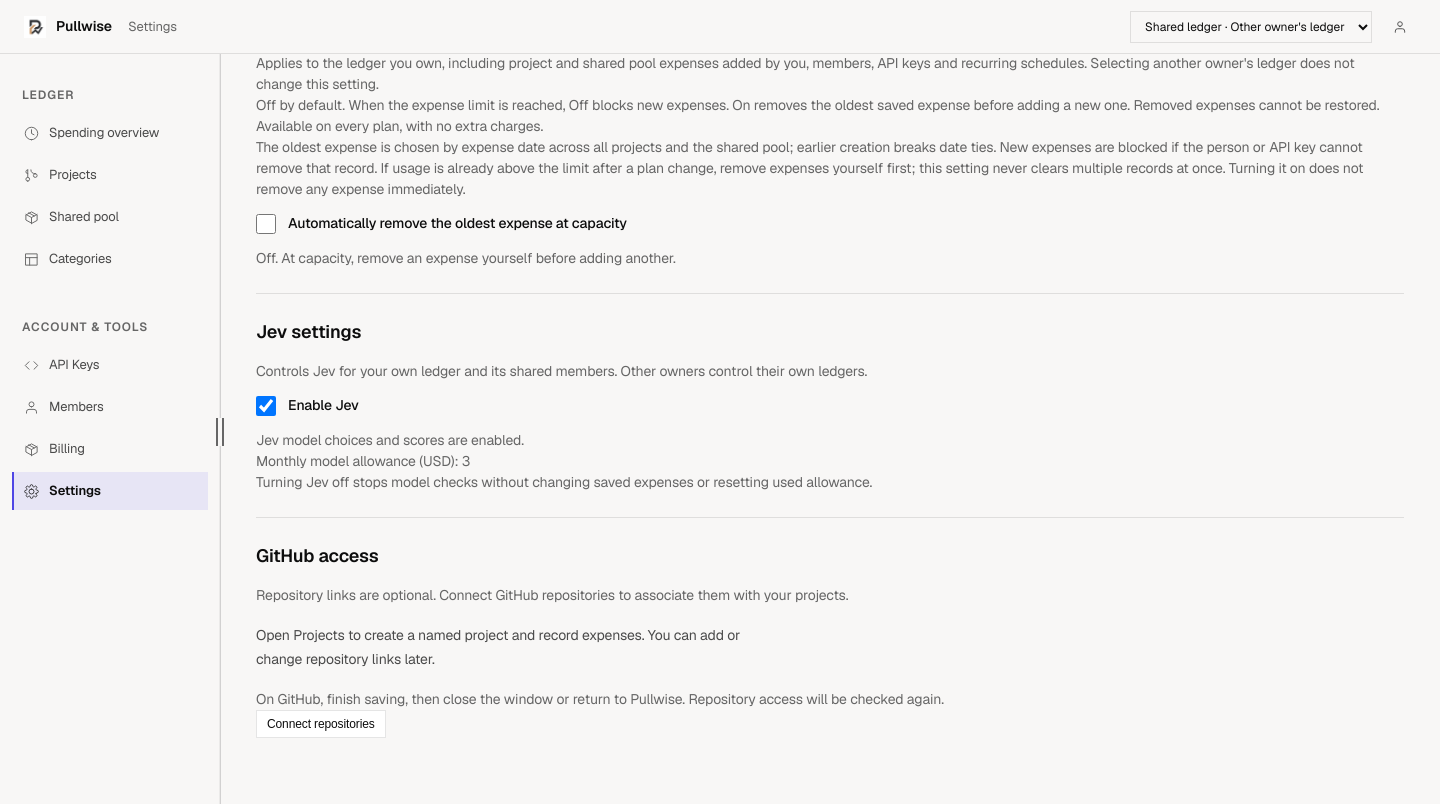
personal Jev preference › clears protected Jev state after a 401 write rejection without retrying
(page scrolled)
Step 1. Click the switch labelled "Enable Jev" → click(266, 406), box [256,396,276,416]
(page scrolled)
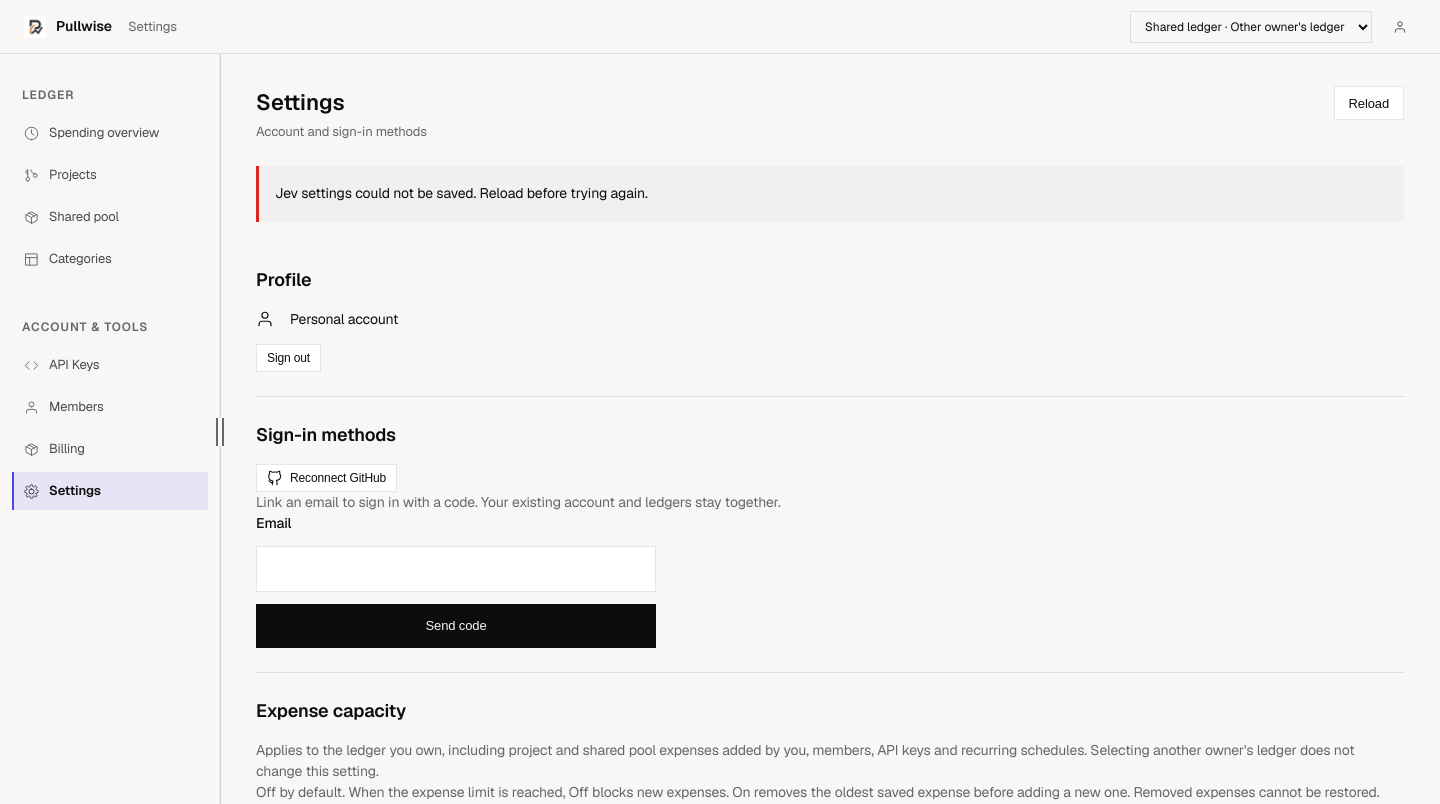
Expected: the button "Reload" is enabled, [1334,86,1404,120]
Expected: the message "Jev settings could not be saved. Reload before trying again." is shown, [256,166,1404,222]
Expected: the text "Monthly model allowance" is gone
